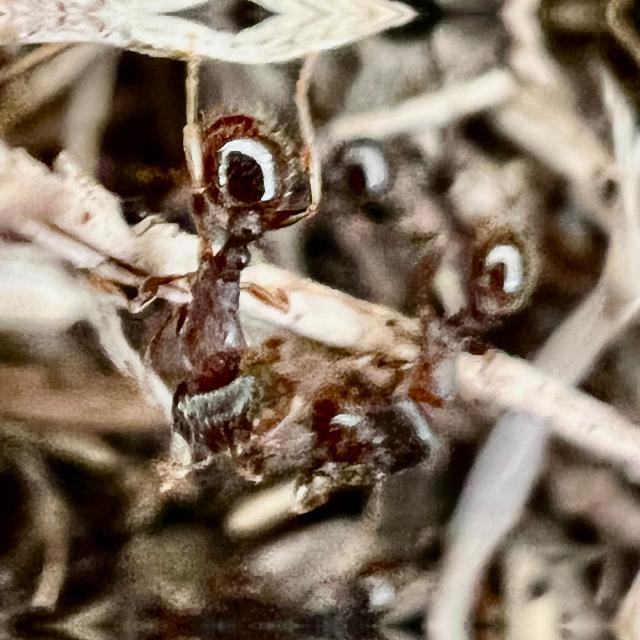Tetramorium: (284, 186, 558, 508), (127, 88, 345, 472)
